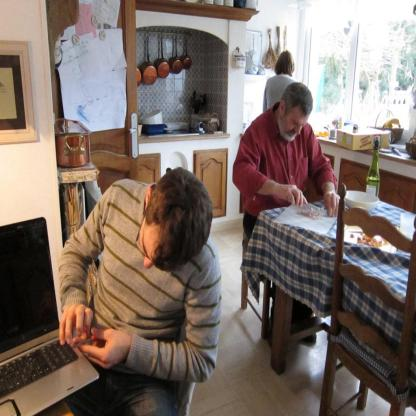board: (0, 216, 99, 416), (366, 140, 380, 200)
